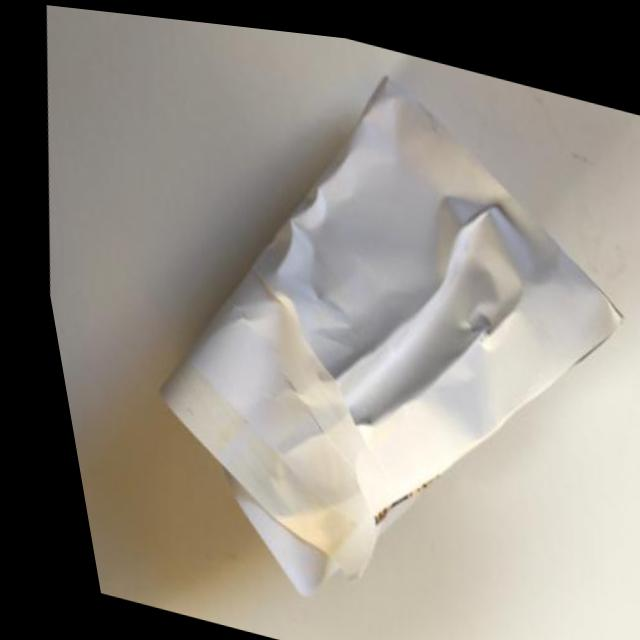paper: (60, 5, 640, 640)
